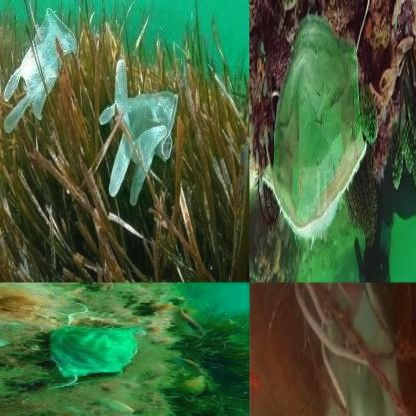Mask: (265, 13, 367, 237), (283, 283, 412, 416), (46, 299, 139, 392)
glove: (98, 56, 180, 207), (1, 3, 76, 133)
